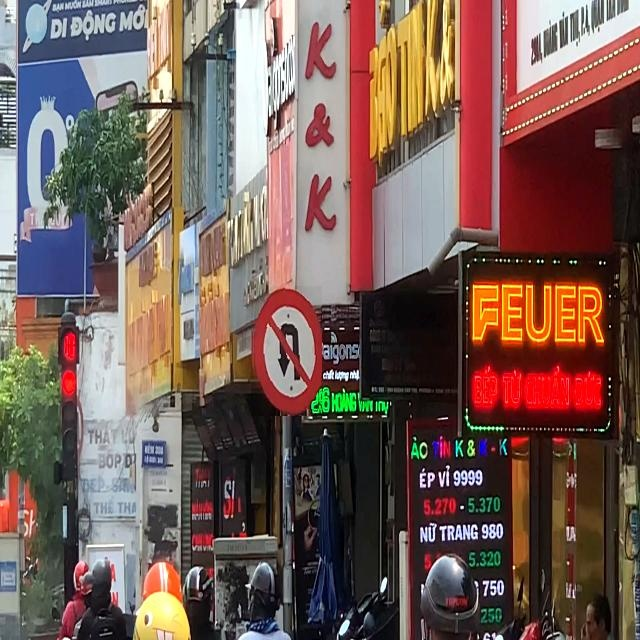bien_cam: (251, 286, 322, 416)
